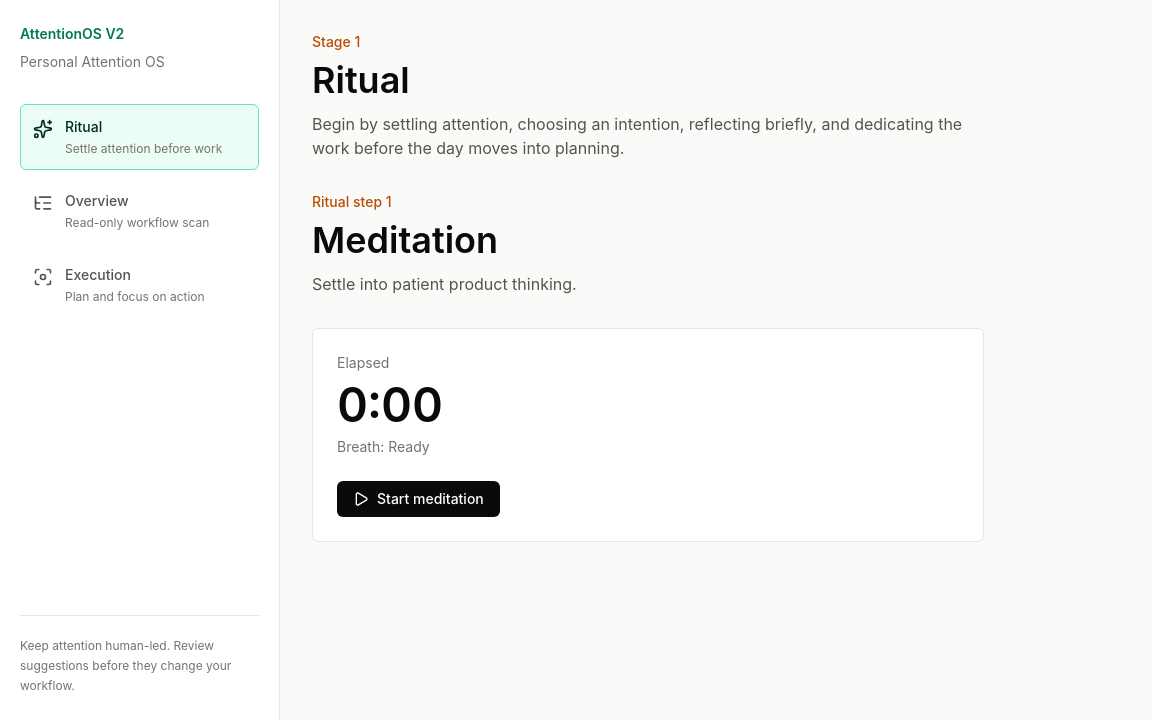
RitualPage workflow › uses locally configured intention and dedication wording when present
Expected: the text "Settle into patient product thinking." is shown, [312,274,577,294]
Click the button "Start meditation" at (418, 499), box [337,481,500,517]
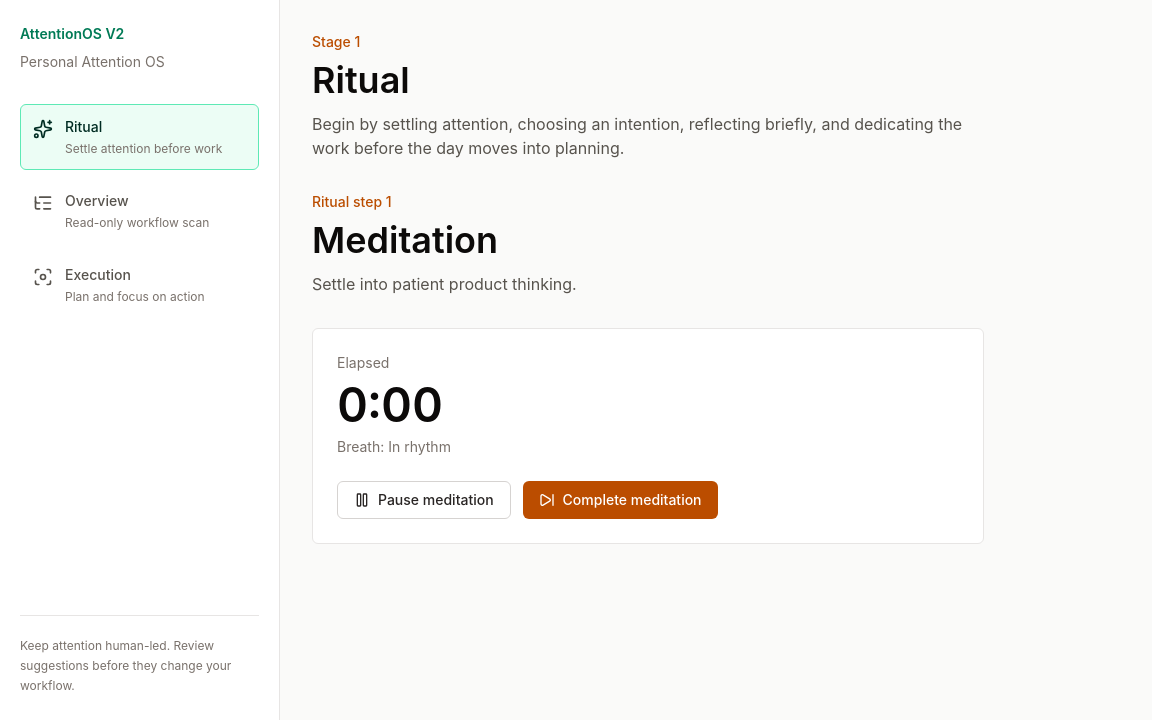
Click the button "Complete meditation" at (620, 500), box [523,481,718,519]
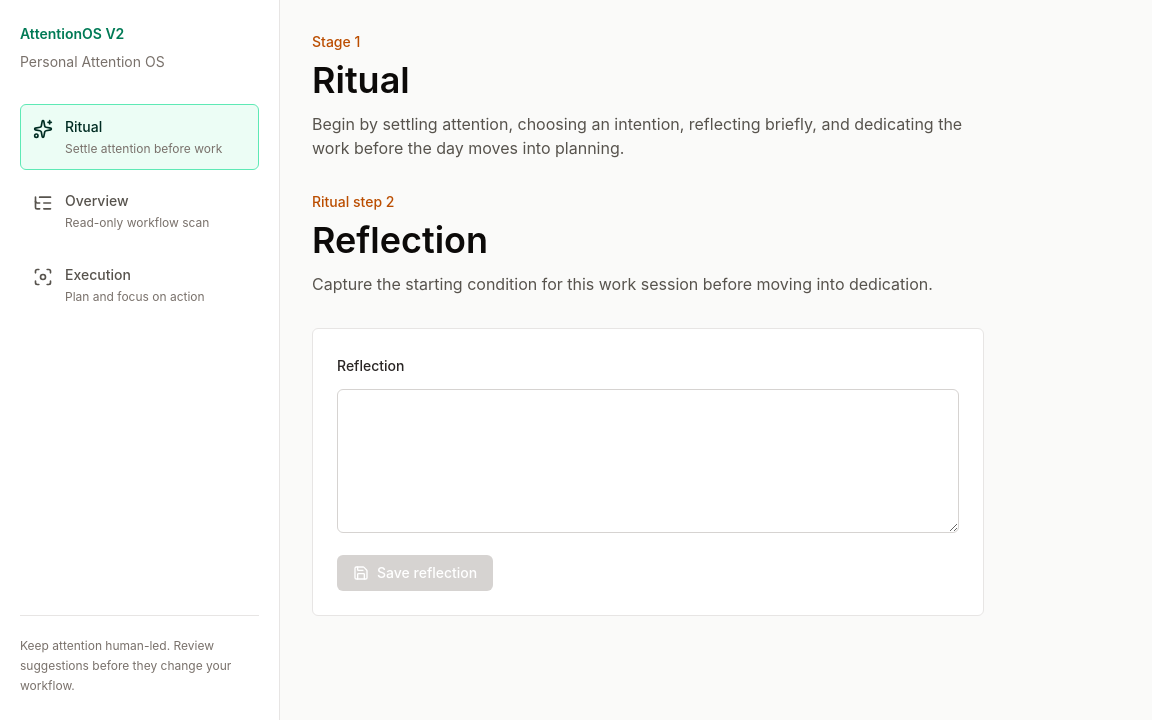
Now the heading "Reflection" is shown, box [312,218,488,262]
Type "Move deliberately." into the text box labelled "Reflection" at (648, 461), box [337,389,959,533]
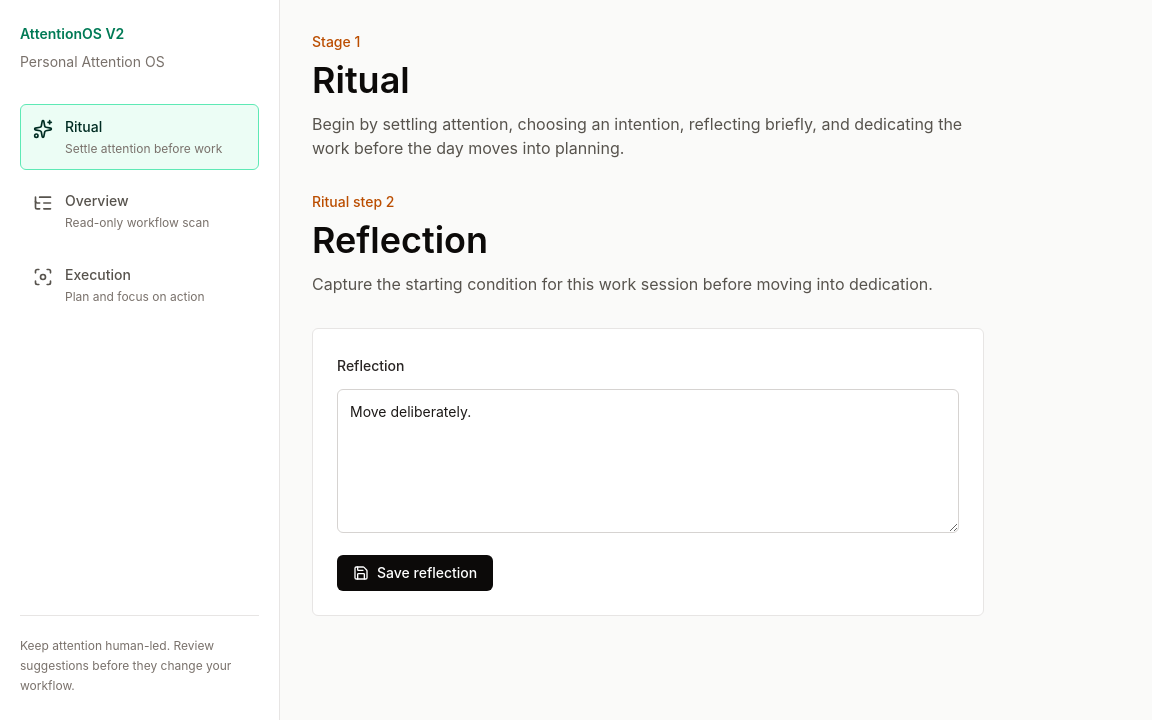
Click the button "Save reflection" at (415, 573), box [337,555,493,591]
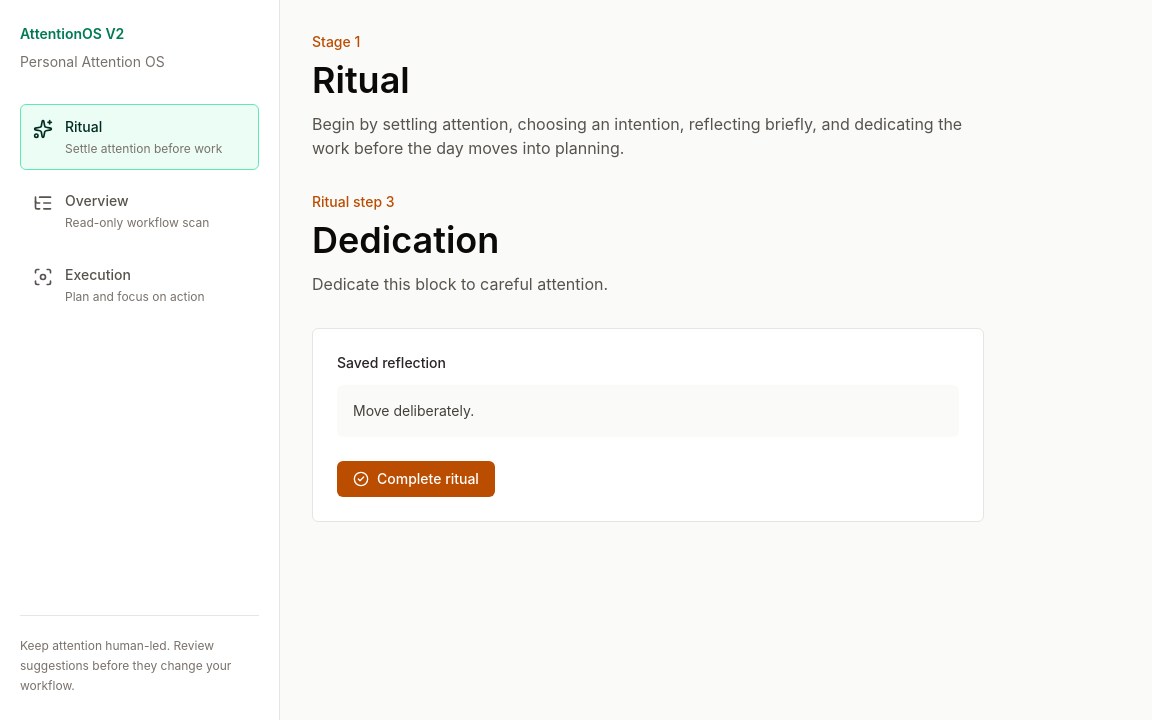
Now the heading "Dedication" is shown, box [312,218,499,262]
Now the text "Dedicate this block to careful attention." is shown, box [312,274,608,294]
